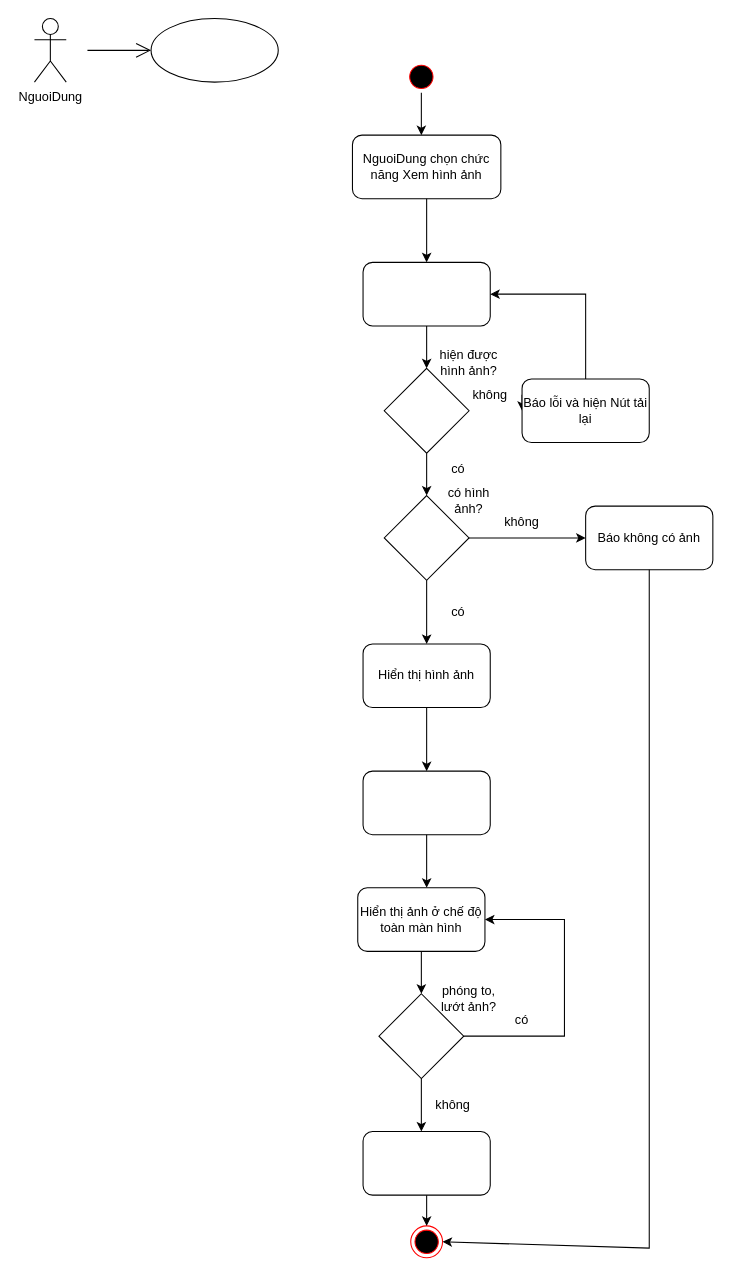
Image size: 731x1276. Some labels were removed from this diagram. The box of each missing label's shape, as (x1, y1, x2, y2) in pixels:
Chọn ảnh: (362, 770, 490, 835)
Hệ Thống truy vấn hình ảnh: (362, 261, 490, 326)
XemHinhAnh: (150, 17, 278, 82)
Đóng chế độ xem: (362, 1130, 490, 1195)
